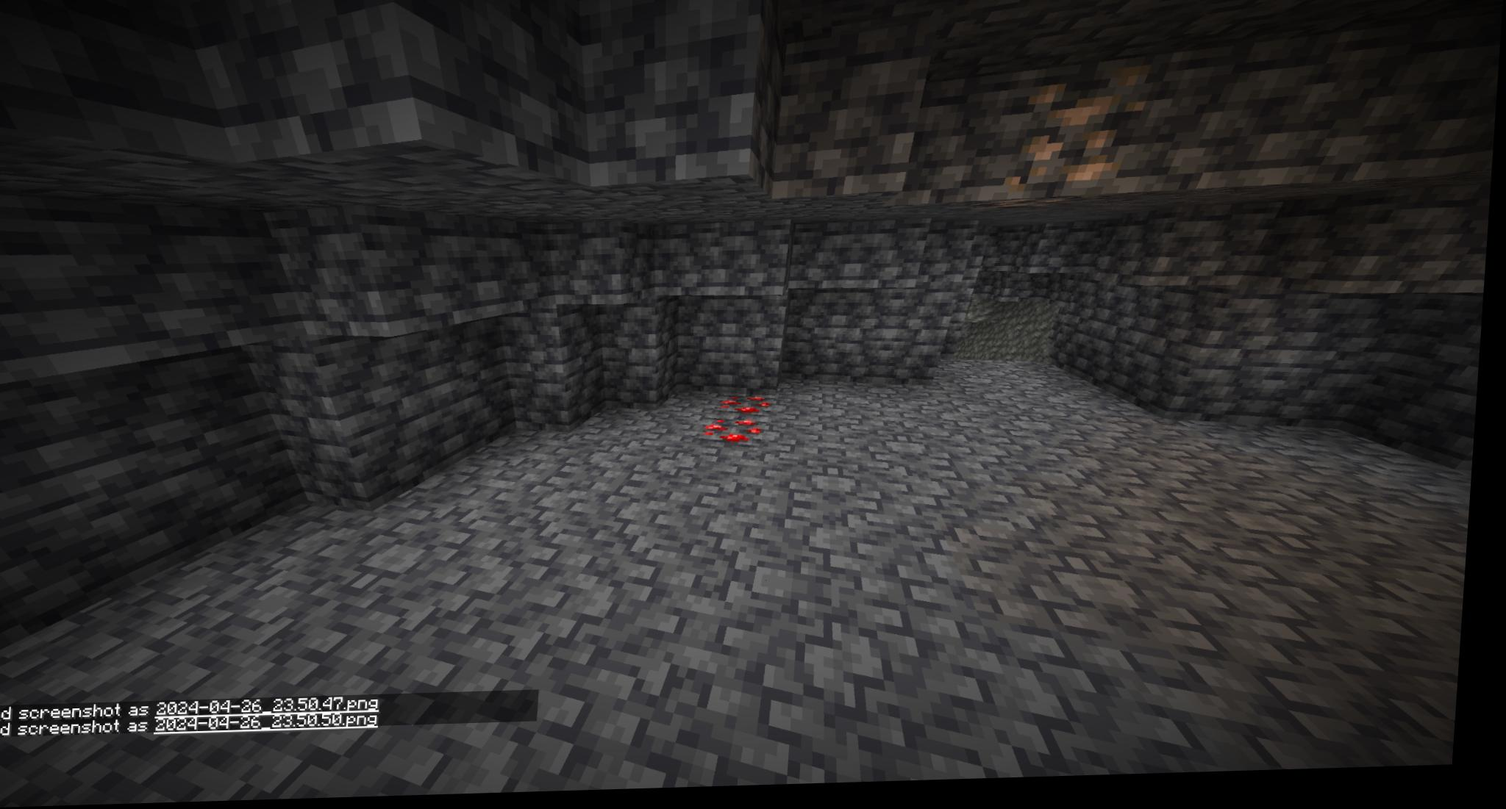iron ore: (995, 73, 1155, 214)
redstone ore: (705, 418, 768, 458), (724, 394, 777, 422)
